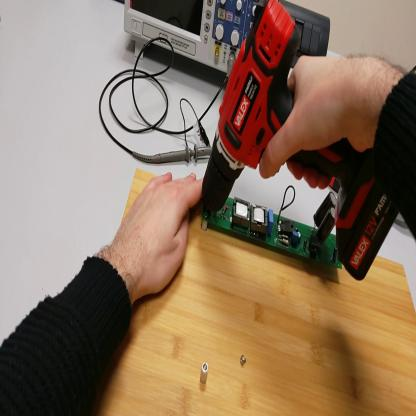electric screwdriver: (198, 1, 400, 285)
hand: (262, 51, 383, 185), (117, 170, 202, 299)
high voltage board: (202, 184, 343, 267)
oscilloscope: (126, 1, 257, 87)
oscilloscope probe tip: (134, 141, 216, 168)
working area: (89, 172, 416, 415)
